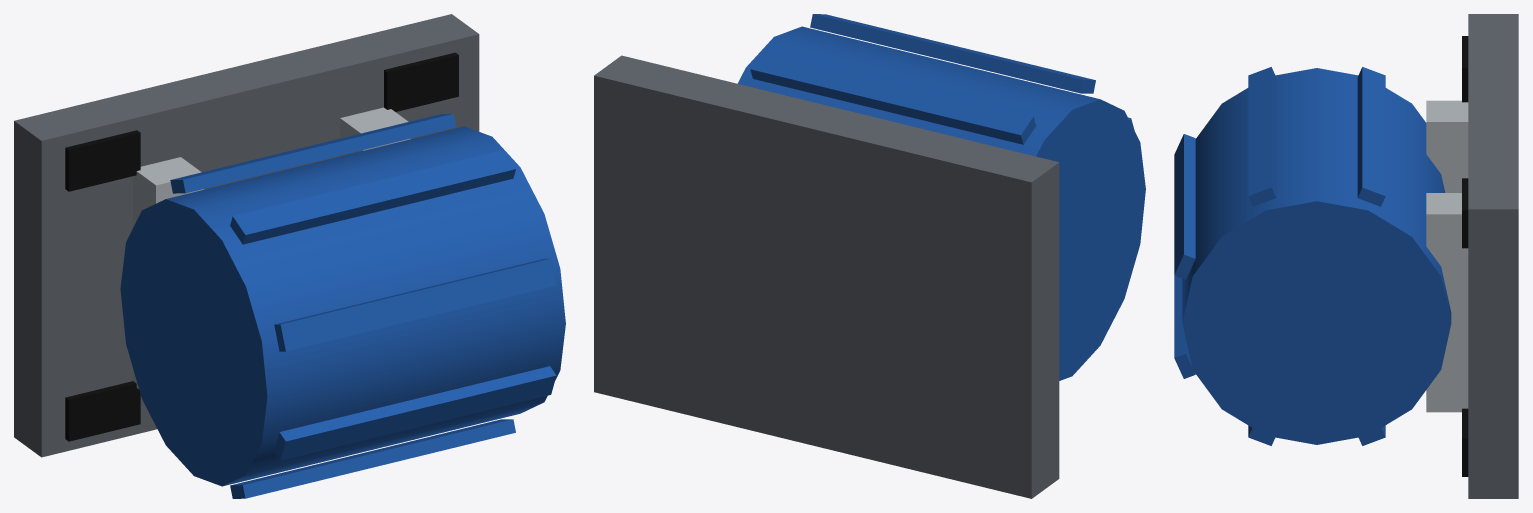
File: item_m1.obj
3 renders of one model, left to right at view 1: azimuth 30°, elevation 25°; view 2: azimuth 150°, elevation 25°; view 3: azimuth 270°, elevation 25°, orthographic. The views are drawn at different scales.
Visible parts, largest first — view 1: item_m1; view 2: item_m1; view 3: item_m1.
Part boxes in pixels (x1,y1,x2,y2): item_m1: (14,14,565,498); item_m1: (594,14,1145,498); item_m1: (1174,14,1518,498).
Size of the model in its own units: 0.11 by 0.076 by 0.082.
1 material, 1 textured.
